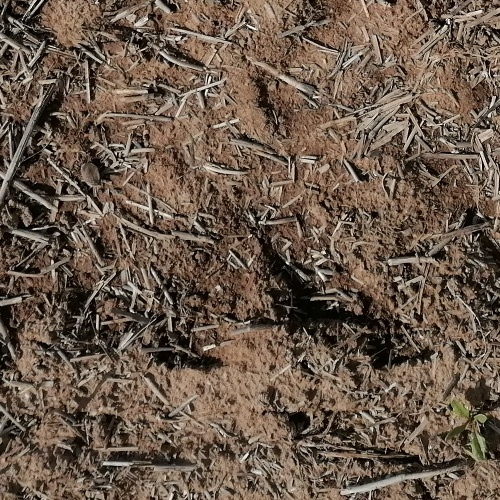beet: (444, 396, 492, 465)
